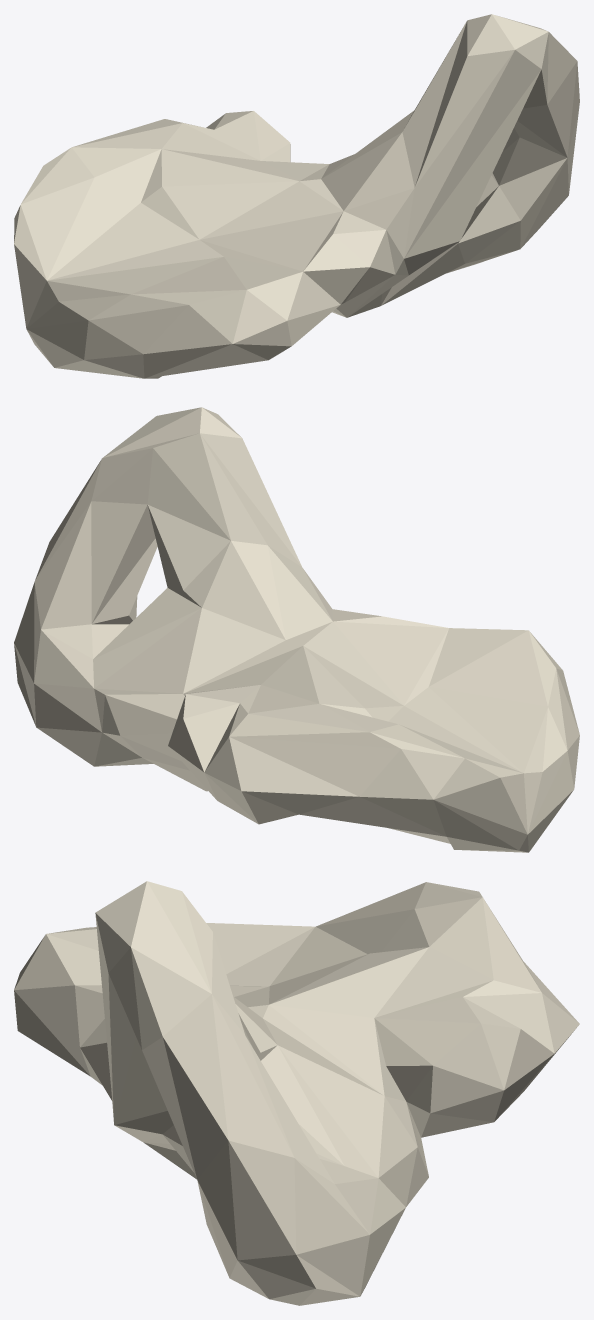
File: HipBone.fbx
The picture shows the model from 3 angles, top to bottom: view 1: azimuth 30°, elevation 25°; view 2: azimuth 150°, elevation 25°; view 3: azimuth 270°, elevation 25°; orthographic projection. The views are drawn at different scales.
Visible parts, largest first — view 1: HipBone; view 2: HipBone; view 3: HipBone.
Part boxes in pixels (<box>): HipBone: <box>14,14,579,378</box>; HipBone: <box>14,407,579,852</box>; HipBone: <box>14,881,579,1305</box>.
Size of the model in its own units: 126 by 72.53 by 89.99.
